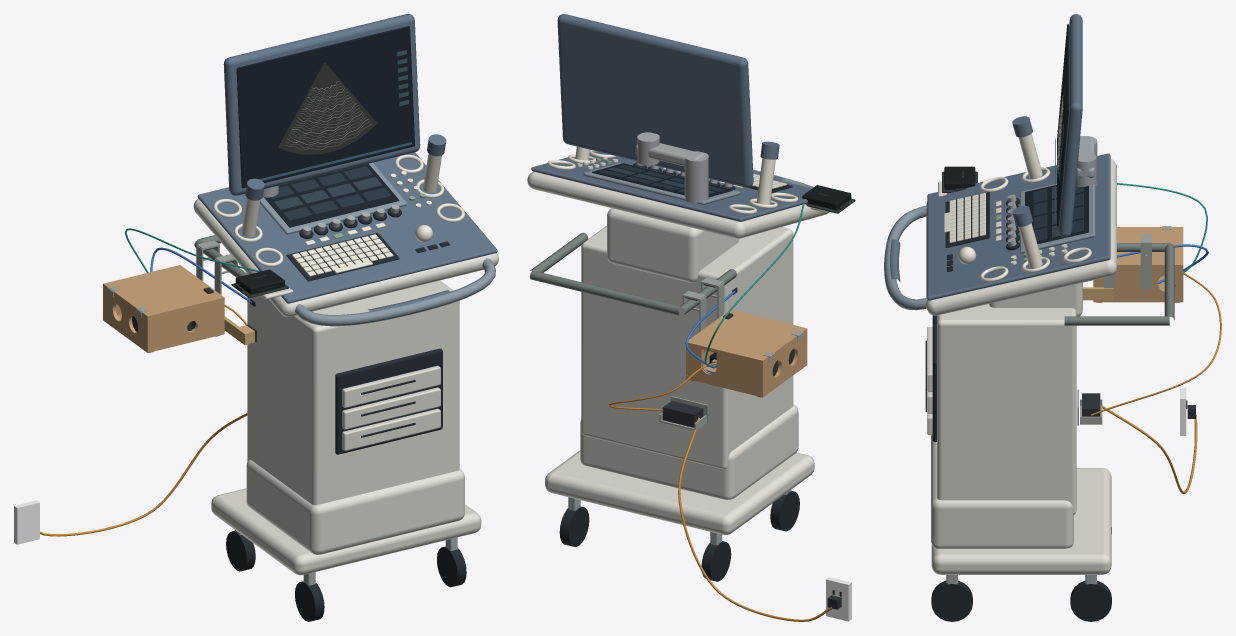
The model's file is forher-recorder-v13-1cm-support.glb.
3 renders of one model, left to right at view 1: azimuth 30°, elevation 25°; view 2: azimuth 150°, elevation 25°; view 3: azimuth 270°, elevation 25°, orthographic.
Visible parts, largest first — view 1: Rounded lower machine body, Dark monitor glass, Blue-grey operation fascia, Lower skirt transition, Wheeled pedestal, Blue-grey monitor bezel, Front removable module face (×3), Synthetic ultrasound fan - no patient data, Wide operation interface table, A hinged top plywood, Front equipment bay, Caster wheel (×3) (+9 smaller); view 2: Rounded lower machine body, Blue-grey monitor bezel, Wheeled pedestal, Lower skirt transition, Operation deck pedestal, Wide operation interface table, Blue-grey operation fascia, A hinged top plywood, Caster wheel (×3), E rear open U notch - 45 wide 63.5 deep R22.5, Rear transverse grip, C left ventilation diameter 45 x 2 (+12 smaller); view 3: Rounded lower machine body, Blue-grey operation fascia, Wheeled pedestal, Lower skirt transition, Wide operation interface table, Blue-grey monitor bezel, Caster wheel (×2), A hinged top plywood, D right cable hole diameter 45, Operation deck pedestal, Curved front push handle, Probe grip (×2) (+11 smaller).
Boxes of the visible parts, x1,y1,x2,y2 form: Rounded lower machine body: [247, 280, 459, 505]; Dark monitor glass: [236, 26, 414, 188]; Blue-grey operation fascia: [197, 152, 497, 303]; Lower skirt transition: [246, 459, 464, 554]; Wheeled pedestal: [211, 488, 481, 575]; Blue-grey monitor bezel: [223, 14, 420, 195]; Front removable module face (×3): [342, 365, 440, 450]; Synthetic ultrasound fan - no patient data: [278, 62, 376, 154]; Wide operation interface table: [193, 198, 498, 316]; A hinged top plywood: [103, 265, 224, 319]; Front equipment bay: [335, 348, 442, 454]; Caster wheel (×3): [226, 531, 466, 621]; Rounded lower machine body: [581, 225, 793, 469]; Blue-grey monitor bezel: [557, 14, 753, 187]; Wheeled pedestal: [545, 450, 814, 534]; Lower skirt transition: [580, 404, 798, 499]; Operation deck pedestal: [607, 208, 738, 282]; Wide operation interface table: [527, 171, 829, 238]; Blue-grey operation fascia: [531, 151, 811, 221]; A hinged top plywood: [687, 310, 807, 363]; Caster wheel (×3): [559, 491, 799, 581]; E rear open U notch - 45 wide 63.5 deep R22.5: [689, 346, 759, 393]; Rear transverse grip: [530, 270, 680, 315]; C left ventilation diameter 45 x 2: [760, 332, 807, 393]; Rounded lower machine body: [937, 304, 1076, 514]; Blue-grey operation fascia: [927, 153, 1110, 300]; Wheeled pedestal: [931, 468, 1111, 574]; Lower skirt transition: [931, 435, 1073, 548]; Wide operation interface table: [926, 159, 1116, 315]; Blue-grey monitor bezel: [1058, 14, 1082, 237]; Caster wheel (×2): [931, 580, 1111, 621]; A hinged top plywood: [1117, 227, 1183, 268]; D right cable hole diameter 45: [1093, 268, 1183, 298]; Operation deck pedestal: [989, 282, 1082, 316]; Curved front push handle: [884, 205, 927, 310]; Probe grip (×2): [1018, 134, 1042, 268].
Size of the model in its own units: 1.02 by 1.42 by 0.8262.
